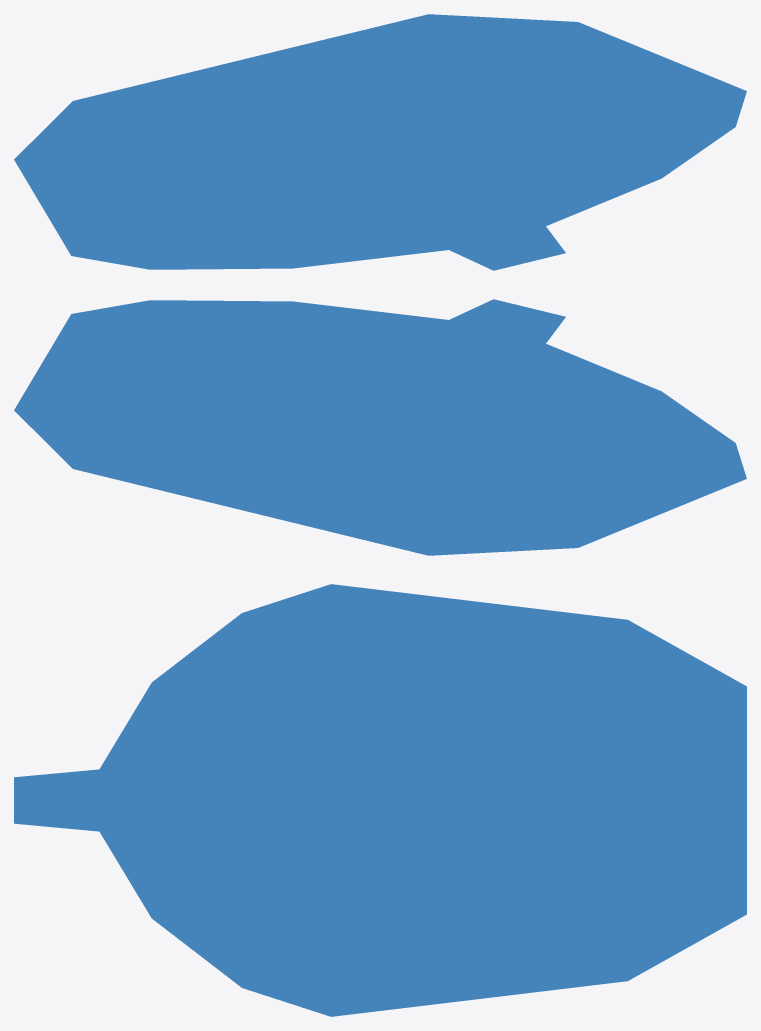
Rendered from coral04.fbx.
3 renders of one model, top to bottom at view 1: azimuth 30°, elevation 25°; view 2: azimuth 150°, elevation 25°; view 3: azimuth 270°, elevation 25°, orthographic. The views are drawn at different scales.
Visible parts, largest first — view 1: Coral04; view 2: Coral04; view 3: Coral04.
Boxes of the visible parts, x1,y1,x2,y2 form: Coral04: (14, 14, 746, 270); Coral04: (14, 299, 746, 555); Coral04: (14, 584, 746, 1016).
Size of the model in its own units: 969 by 0.000116 by 694.
